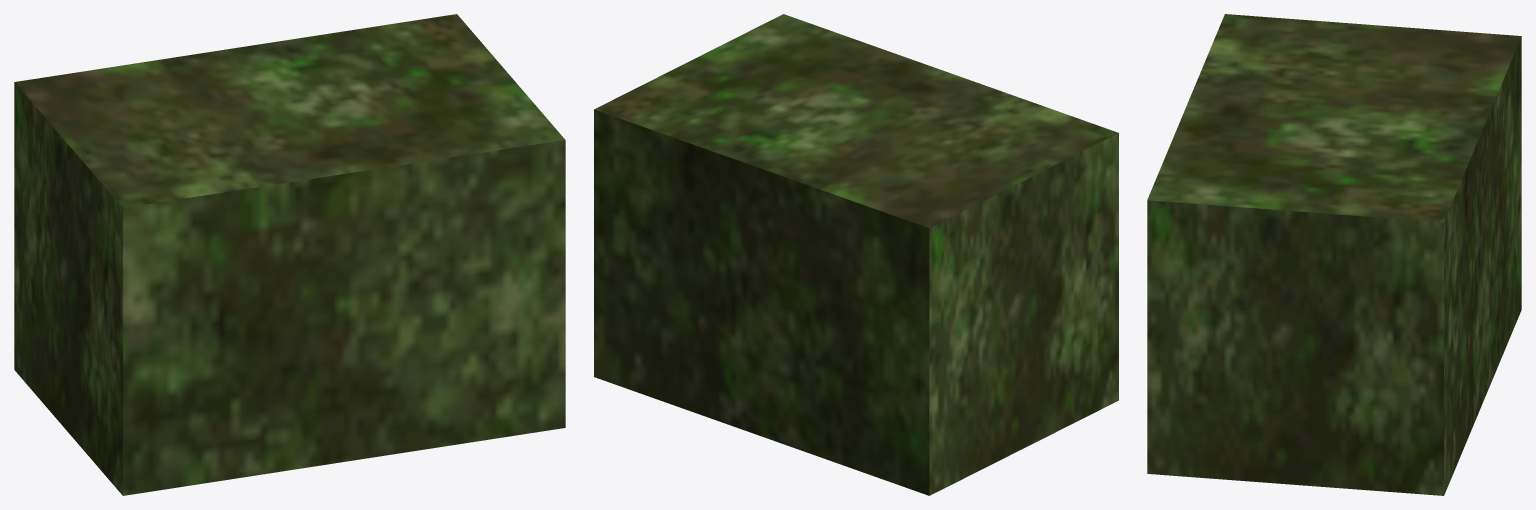
The model's file is OVERHILL_A_01_SMALL_BLOCK_05.fbx.
3 renders of one model, left to right at view 1: azimuth 30°, elevation 25°; view 2: azimuth 150°, elevation 25°; view 3: azimuth 270°, elevation 25°, orthographic. The views are drawn at different scales.
Visible parts, largest first — view 1: OVERHILL_A_01_SMALL_BLOCK_05; view 2: OVERHILL_A_01_SMALL_BLOCK_05; view 3: OVERHILL_A_01_SMALL_BLOCK_05.
Boxes of the visible parts, x1=… form: OVERHILL_A_01_SMALL_BLOCK_05: x1=14, y1=14, x2=565, y2=495; OVERHILL_A_01_SMALL_BLOCK_05: x1=594, y1=14, x2=1118, y2=495; OVERHILL_A_01_SMALL_BLOCK_05: x1=1147, y1=14, x2=1521, y2=495.
Bounding box in the file's own units: 12944 × 7925 × 9832.
1 material, 1 textured.
